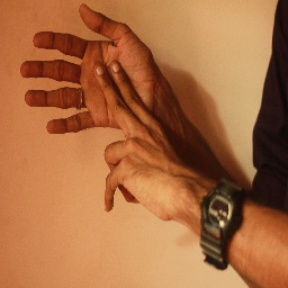N: (16, 3, 184, 202)
